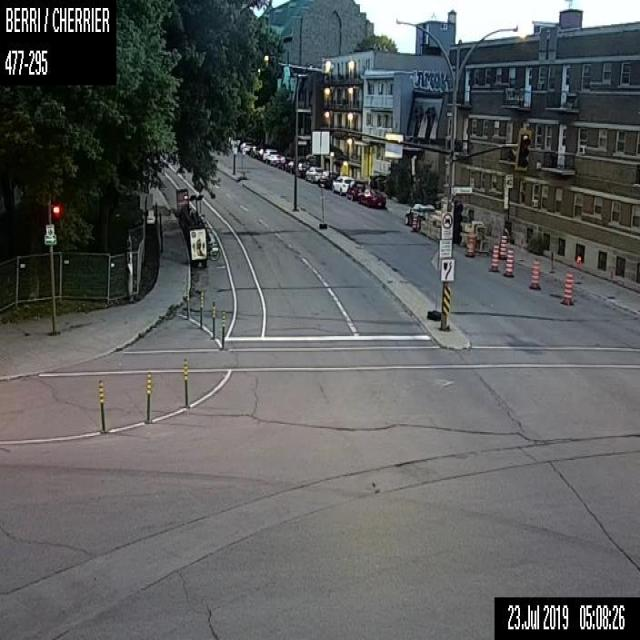construction: (426, 248, 441, 319), (560, 271, 574, 304), (97, 382, 105, 429), (316, 192, 326, 229), (144, 372, 151, 421), (528, 258, 539, 288), (504, 247, 514, 276), (606, 265, 614, 296), (465, 233, 475, 257), (182, 359, 187, 404), (197, 291, 203, 328), (574, 255, 582, 282), (490, 243, 498, 270), (499, 234, 507, 258), (211, 301, 216, 339), (220, 311, 225, 348), (547, 251, 555, 272), (410, 210, 417, 232), (185, 283, 189, 320)
vehicle: (403, 203, 434, 226), (357, 188, 386, 208), (332, 175, 354, 195), (346, 179, 365, 200), (317, 170, 336, 188), (306, 166, 324, 182), (268, 153, 284, 166), (263, 148, 276, 163), (277, 156, 290, 170), (297, 162, 308, 177), (284, 160, 294, 173), (246, 146, 256, 158), (240, 141, 250, 153), (255, 148, 263, 159)
